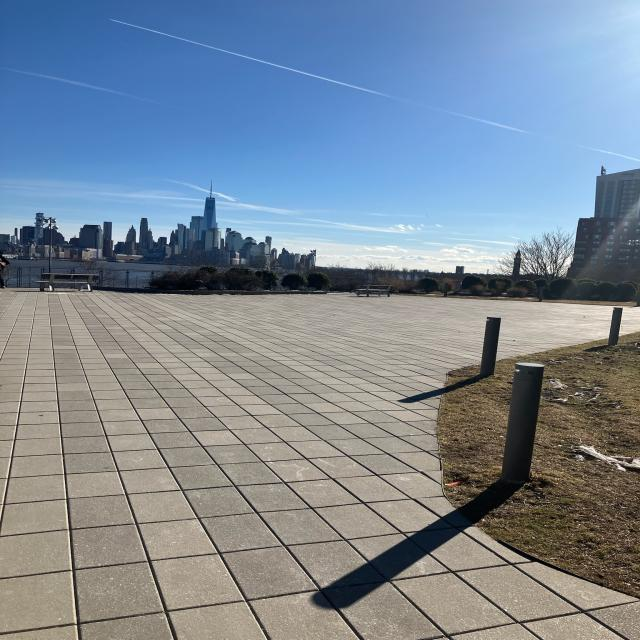WTC: (202, 180, 218, 232)
